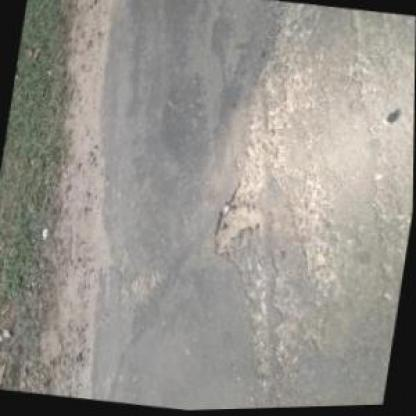pothole: (209, 194, 270, 262)
